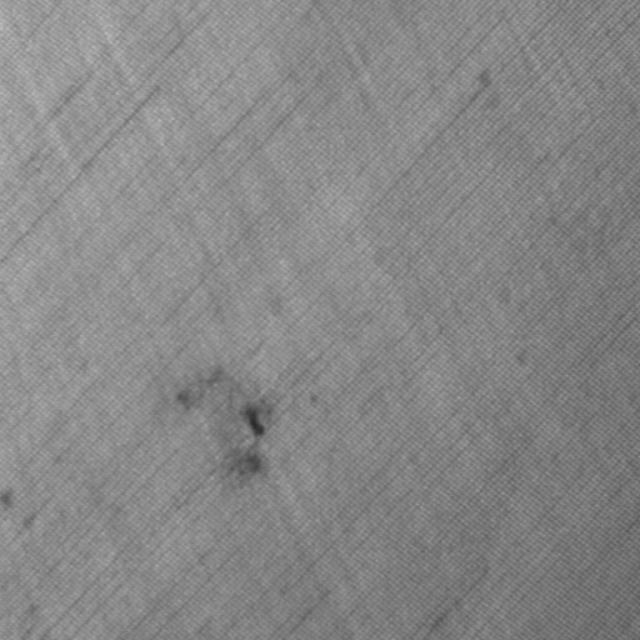objects: (176, 358, 276, 494)
